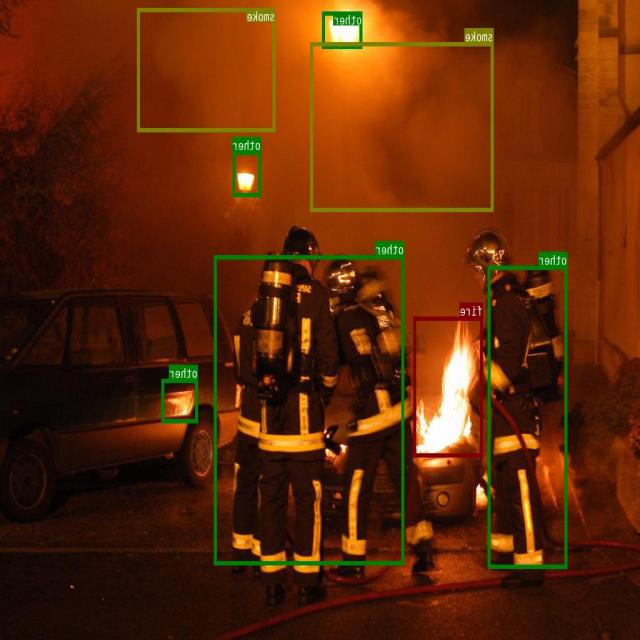fire: (414, 316, 483, 457)
other: (215, 255, 405, 564), (489, 265, 568, 567), (162, 378, 198, 422), (323, 11, 363, 48), (233, 150, 262, 196)
smoke: (311, 42, 494, 211), (138, 8, 276, 131)
